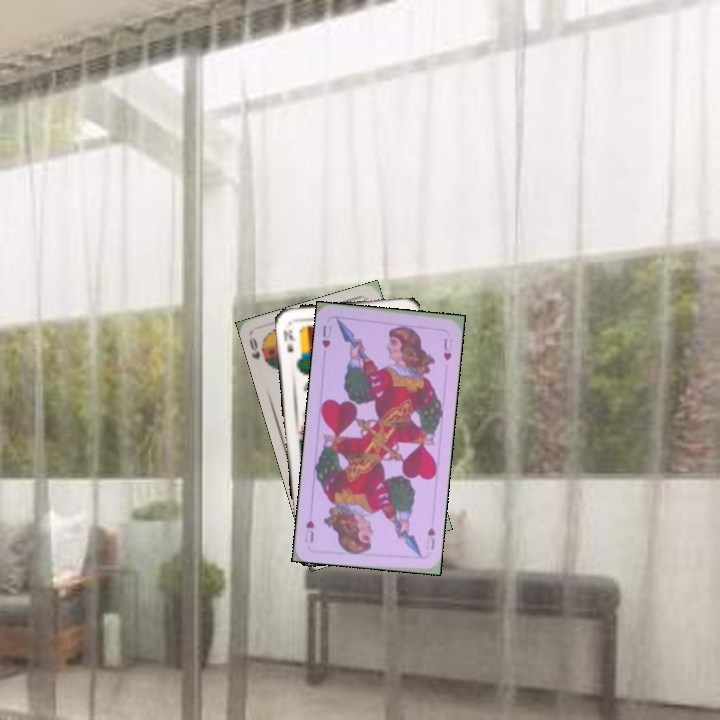EK: (279, 326, 298, 355)
HU: (318, 321, 334, 350), (423, 523, 437, 552)
SO: (245, 333, 272, 368)
